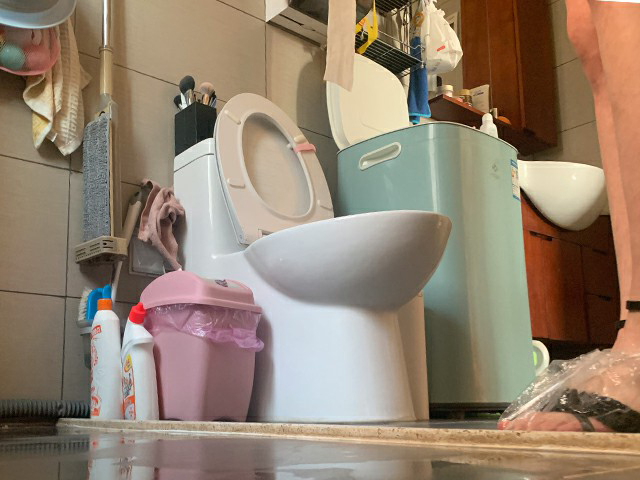closestool: (171, 92, 453, 427)
trashcan: (139, 269, 263, 423)
